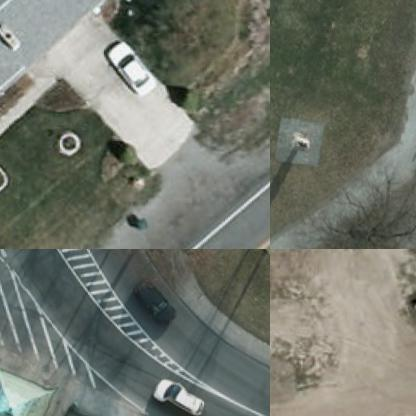car: (102, 37, 162, 98), (148, 371, 209, 415), (132, 276, 180, 324)
